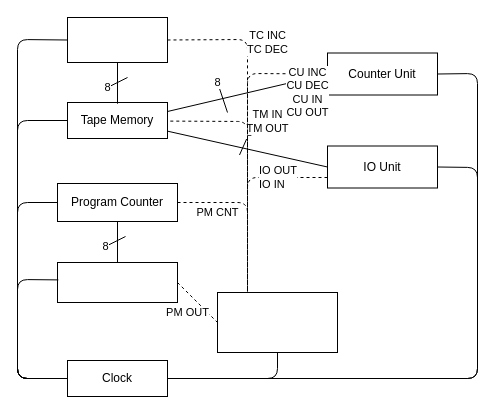
This 496x414 diagram has some shape labels left out. The centre of each missing label's shape, as x and y in pixels:
"Control Logic" goes at (277,322).
"Program Memory" goes at (117,282).
"Tape Memory Counter" goes at (117,39).
